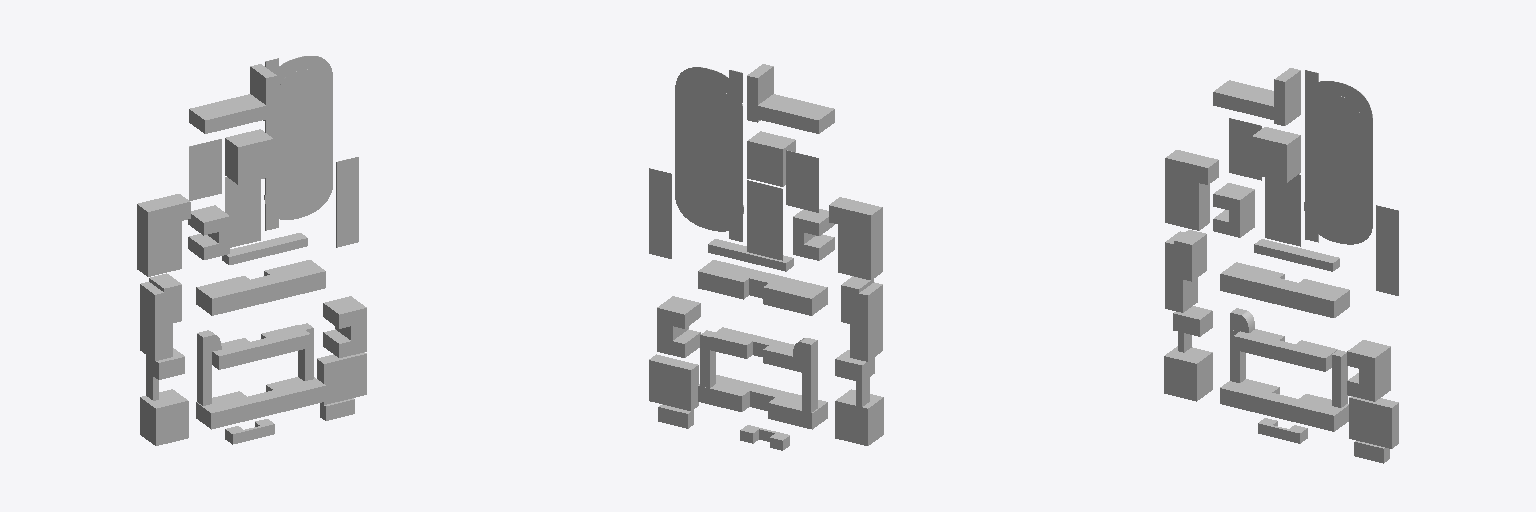
Rendered from building.obj.
3 views of the same model, side by side, from view 1: azimuth 30°, elevation 25°; view 2: azimuth 150°, elevation 25°; view 3: azimuth 330°, elevation 25° (orthographic).
Visible parts, largest first — view 1: obj_0; view 2: obj_0; view 3: obj_0.
Boxes of the visible parts, x1,y1,x2,y2 form: obj_0: [137, 56, 366, 445]; obj_0: [649, 64, 883, 450]; obj_0: [1164, 68, 1398, 463].
Bounding box in the file's own units: 68 × 108 × 8.5.